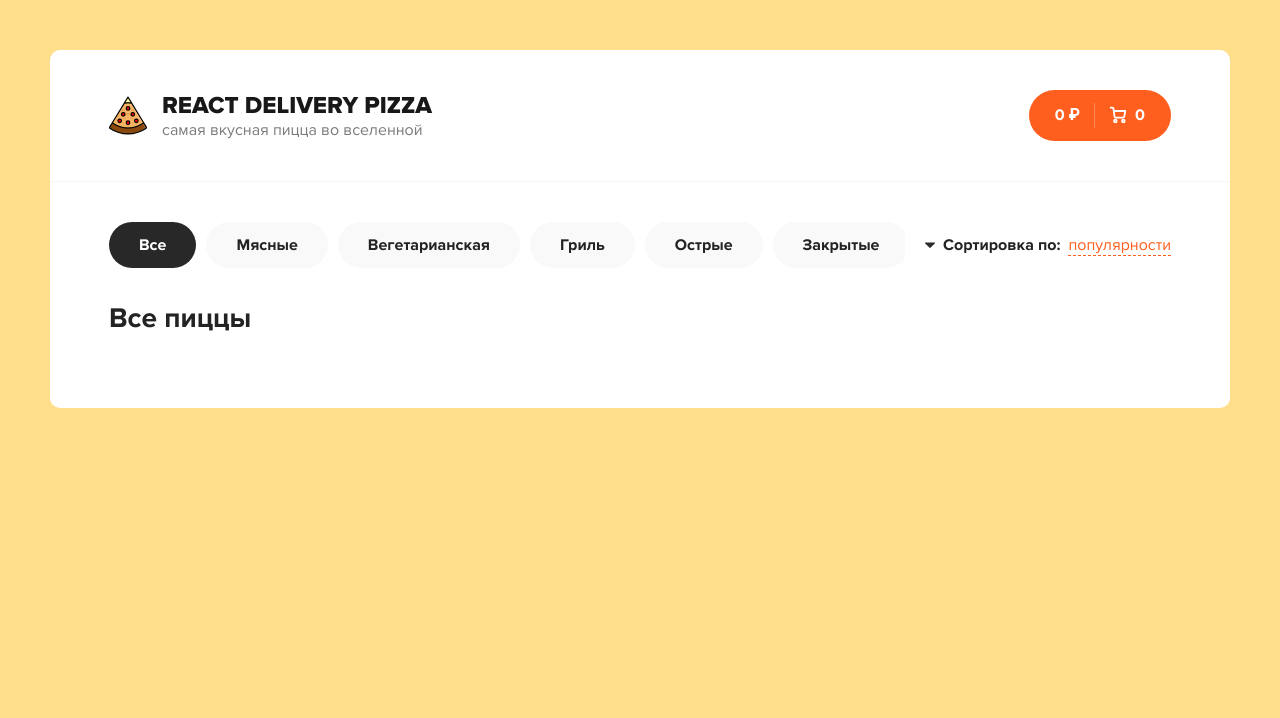
header render › clicking on cart button should run to cart page
What coordinates should you click on to do the following:
click the link with test id "cart-link"
I would click on:
 (1029, 90)
Its box is [1029,90,1171,141].
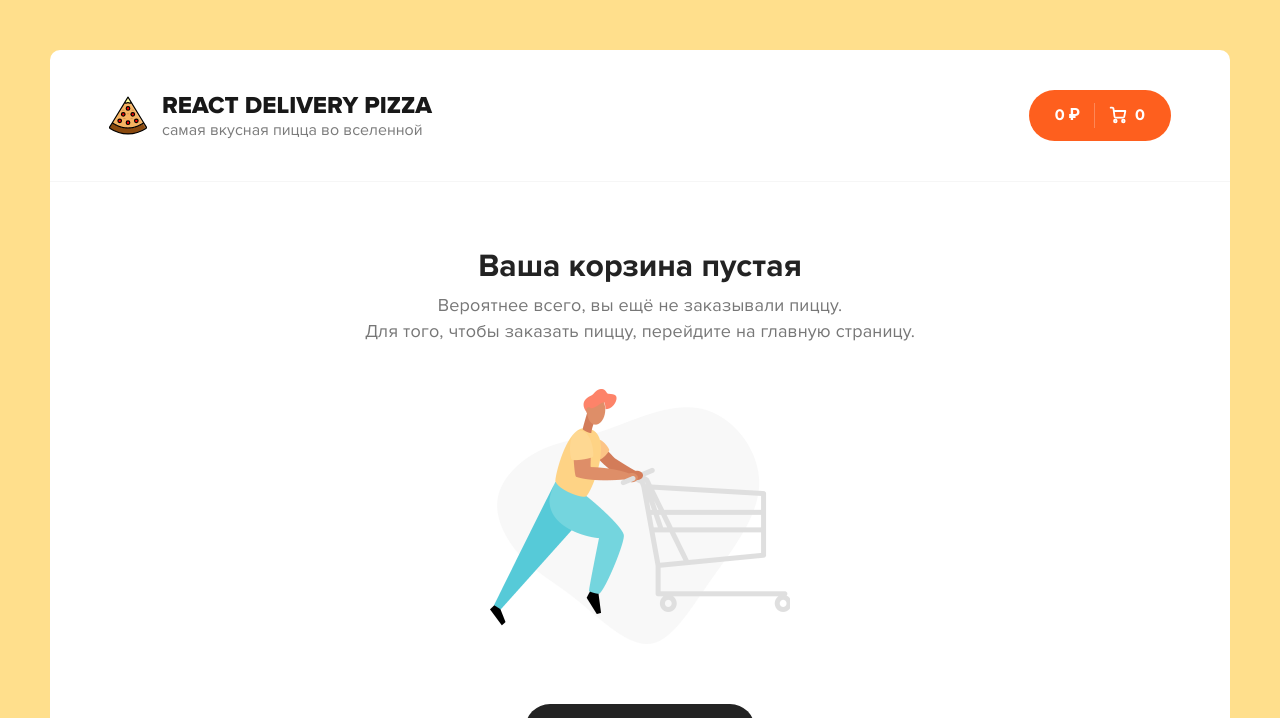
Check: the text "Ваша корзина пустая" is shown, box [478,247,802,286]
